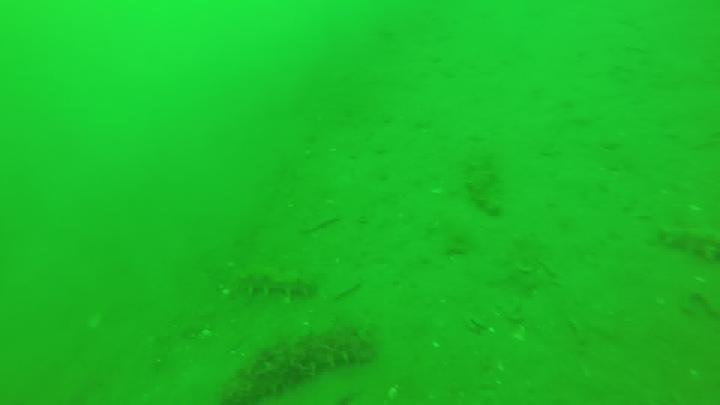holothurian: (210, 327, 374, 405), (236, 264, 315, 307), (464, 153, 503, 217), (659, 223, 720, 262)
